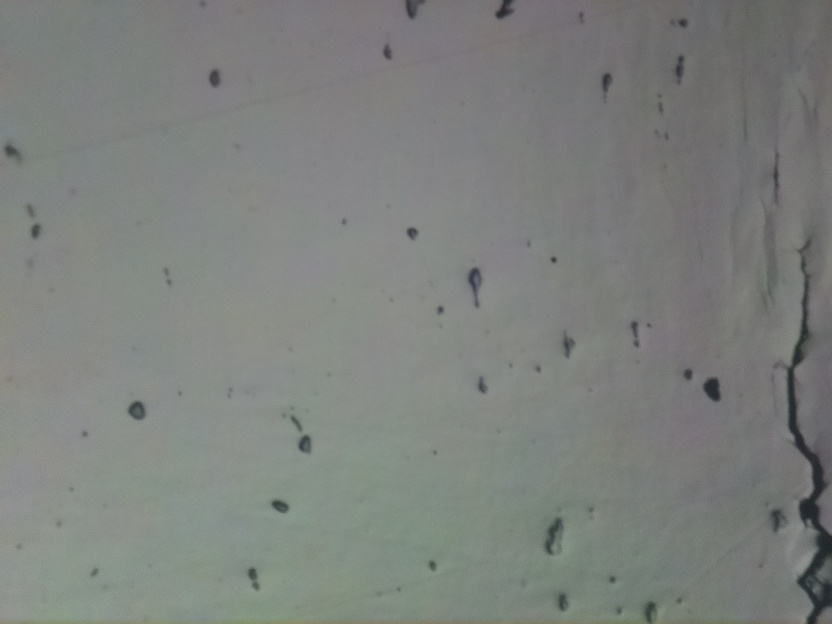crack: (787, 237, 832, 624), (770, 145, 785, 208)
